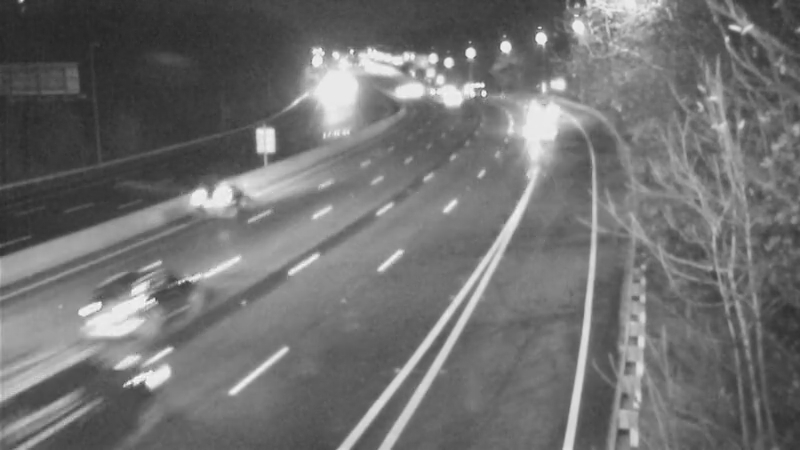vehicle: (65, 259, 175, 369), (175, 159, 255, 239), (459, 63, 509, 113), (424, 69, 474, 119), (520, 90, 570, 140), (515, 106, 565, 156)
